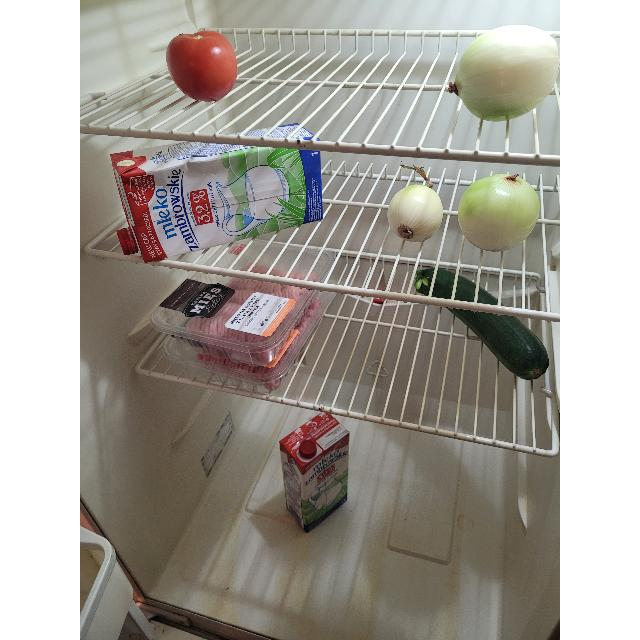meat: (190, 267, 316, 359), (194, 355, 292, 387)
milk: (108, 140, 322, 264), (284, 408, 348, 530)
onion: (446, 28, 556, 122), (460, 174, 540, 252), (390, 181, 444, 243)
tomato: (166, 32, 232, 102)
zucchini: (415, 268, 545, 379)
